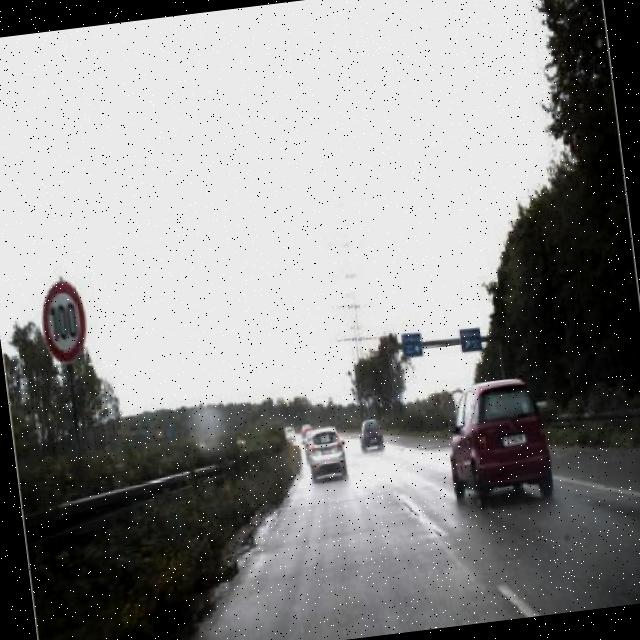Ograniczenie predkosci do 100: (36, 276, 89, 364)
